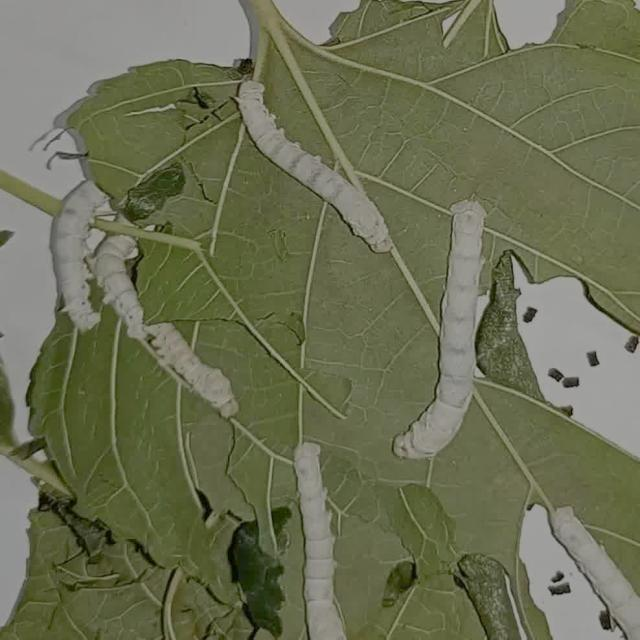Healthy: (20, 152, 249, 430), (386, 158, 570, 495), (208, 54, 410, 274), (257, 416, 403, 640)
